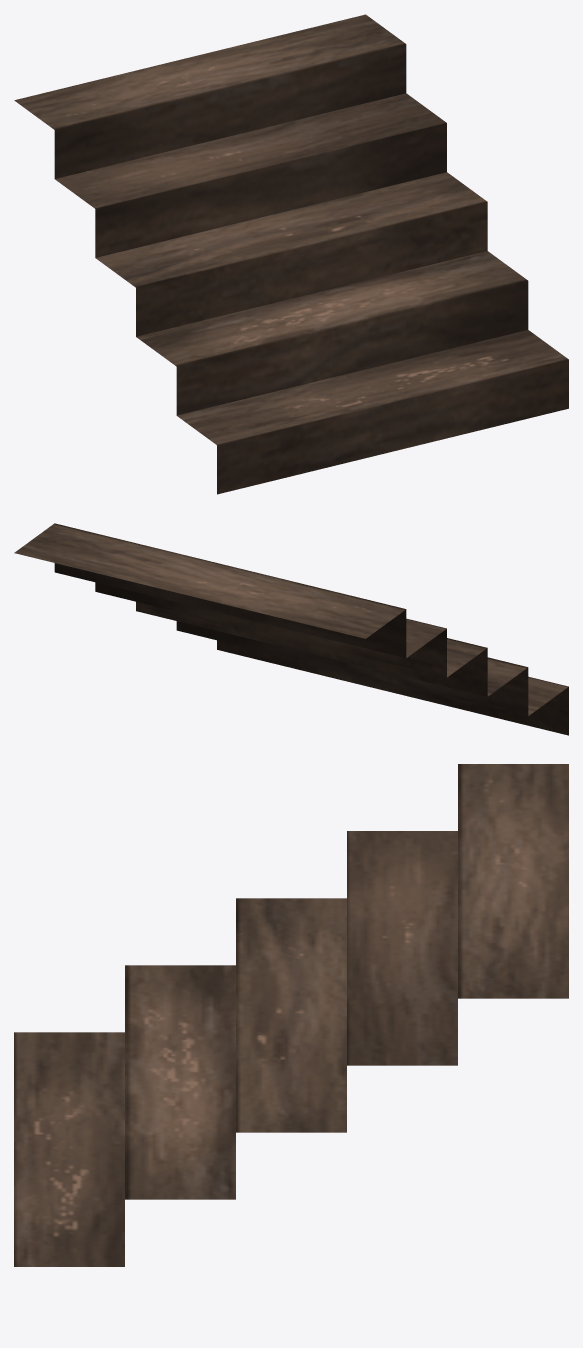
Rendered from Stairs_Narrow.Third.fbx.
The picture shows the model from 3 angles, top to bottom: view 1: azimuth 30°, elevation 25°; view 2: azimuth 150°, elevation 25°; view 3: azimuth 270°, elevation 25°; orthographic projection. The views are drawn at different scales.
Visible parts, largest first — view 1: Stairs.Narrow_Half.001; view 2: Stairs.Narrow_Half.001; view 3: Stairs.Narrow_Half.001.
Part boxes in pixels (x1,y1,x2,y2): Stairs.Narrow_Half.001: (14,14,568,494); Stairs.Narrow_Half.001: (14,523,568,735); Stairs.Narrow_Half.001: (14,764,568,1266).
Bounding box in the file's own units: 150 × 100 × 150.
